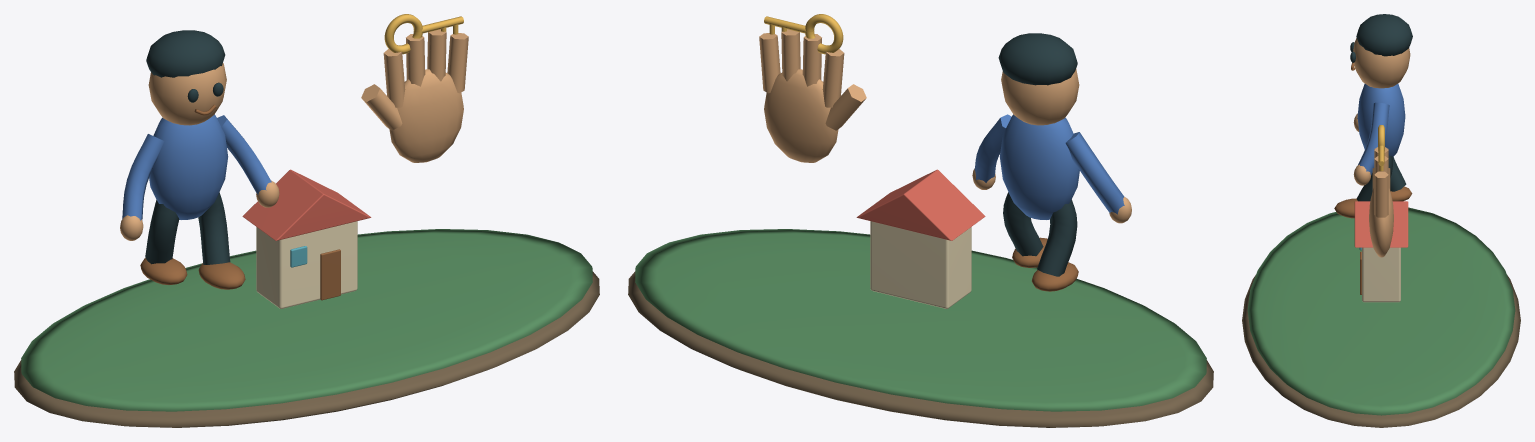
File: complete-first-main-host-desire.glb
3 renders of one model, left to right at view 1: azimuth 30°, elevation 25°; view 2: azimuth 150°, elevation 25°; view 3: azimuth 270°, elevation 25°, orthographic. The views are drawn at different scales.
Visible parts, largest first — view 1: complete-first-main-host-desire_surface_01, complete-first-main-host-desire_surface_02, complete-first-main-host-desire_surface_00, complete-first-main-host-desire_surface_05, complete-first-main-host-desire_surface_03, complete-first-main-host-desire_surface_07, complete-first-main-host-desire_surface_08, complete-first-main-host-desire_surface_04, complete-first-main-host-desire_surface_06; view 2: complete-first-main-host-desire_surface_01, complete-first-main-host-desire_surface_02, complete-first-main-host-desire_surface_00, complete-first-main-host-desire_surface_05, complete-first-main-host-desire_surface_07, complete-first-main-host-desire_surface_03, complete-first-main-host-desire_surface_08, complete-first-main-host-desire_surface_04, complete-first-main-host-desire_surface_06; view 3: complete-first-main-host-desire_surface_01, complete-first-main-host-desire_surface_00, complete-first-main-host-desire_surface_02, complete-first-main-host-desire_surface_05, complete-first-main-host-desire_surface_03, complete-first-main-host-desire_surface_07, complete-first-main-host-desire_surface_08, complete-first-main-host-desire_surface_04, complete-first-main-host-desire_surface_06.
Part boxes in pixels (box(x1,y1,x2,y2)): complete-first-main-host-desire_surface_01: box(21, 229, 592, 411); complete-first-main-host-desire_surface_02: box(120, 29, 468, 240); complete-first-main-host-desire_surface_00: box(14, 271, 599, 427); complete-first-main-host-desire_surface_05: box(122, 114, 271, 220); complete-first-main-host-desire_surface_03: box(145, 30, 230, 264); complete-first-main-host-desire_surface_07: box(256, 221, 357, 308); complete-first-main-host-desire_surface_08: box(242, 169, 371, 240); complete-first-main-host-desire_surface_04: box(140, 104, 340, 300); complete-first-main-host-desire_surface_06: box(384, 14, 463, 54); complete-first-main-host-desire_surface_01: box(635, 229, 1206, 411); complete-first-main-host-desire_surface_02: box(759, 29, 1131, 223); complete-first-main-host-desire_surface_00: box(628, 271, 1213, 427); complete-first-main-host-desire_surface_05: box(974, 114, 1124, 219); complete-first-main-host-desire_surface_07: box(870, 221, 971, 308); complete-first-main-host-desire_surface_03: box(998, 33, 1077, 276); complete-first-main-host-desire_surface_08: box(856, 169, 985, 240); complete-first-main-host-desire_surface_04: box(1012, 237, 1078, 291); complete-first-main-host-desire_surface_06: box(764, 14, 843, 54); complete-first-main-host-desire_surface_01: box(1247, 207, 1515, 415); complete-first-main-host-desire_surface_00: box(1242, 275, 1520, 427); complete-first-main-host-desire_surface_02: box(1353, 38, 1410, 257); complete-first-main-host-desire_surface_05: box(1357, 83, 1405, 175); complete-first-main-host-desire_surface_03: box(1350, 14, 1412, 201); complete-first-main-host-desire_surface_07: box(1362, 247, 1400, 302); complete-first-main-host-desire_surface_08: box(1354, 201, 1408, 247); complete-first-main-host-desire_surface_04: box(1334, 62, 1412, 294); complete-first-main-host-desire_surface_06: box(1378, 125, 1384, 171).
Bounding box in the file's own units: 4.56 × 2.67 × 2.5.
